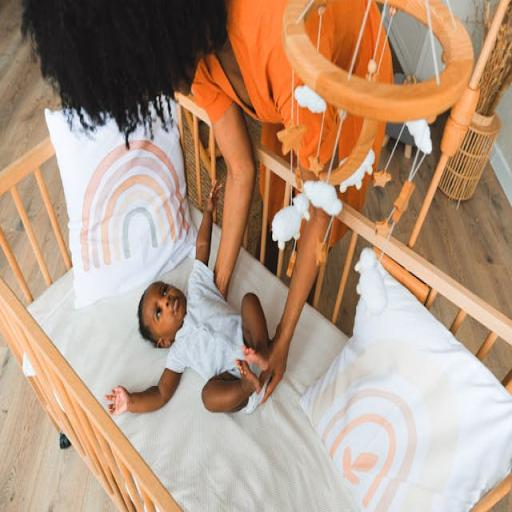baby: (106, 183, 268, 413)
crib: (0, 227, 187, 510)
